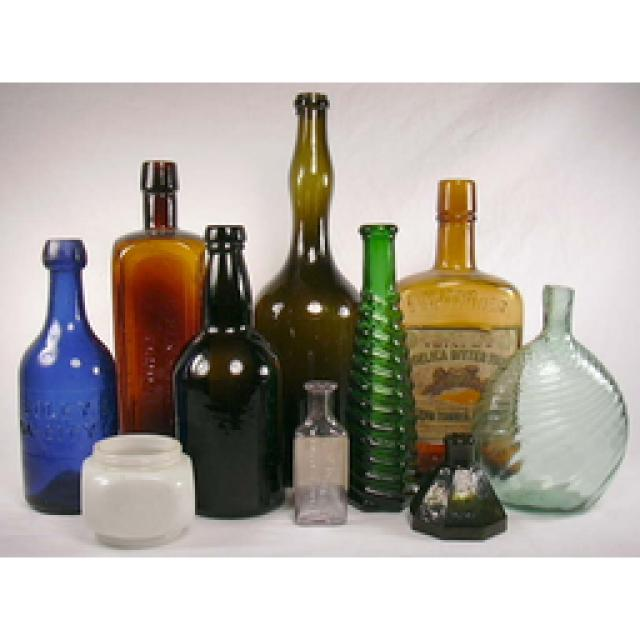glass_beverage_bottles: (188, 222, 278, 503), (398, 172, 518, 378), (18, 230, 104, 507)
